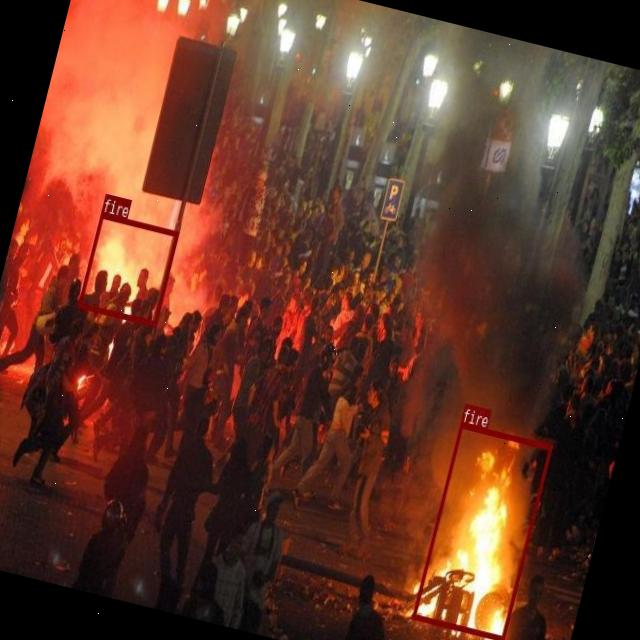fire: (411, 422, 552, 640), (78, 212, 178, 325)
